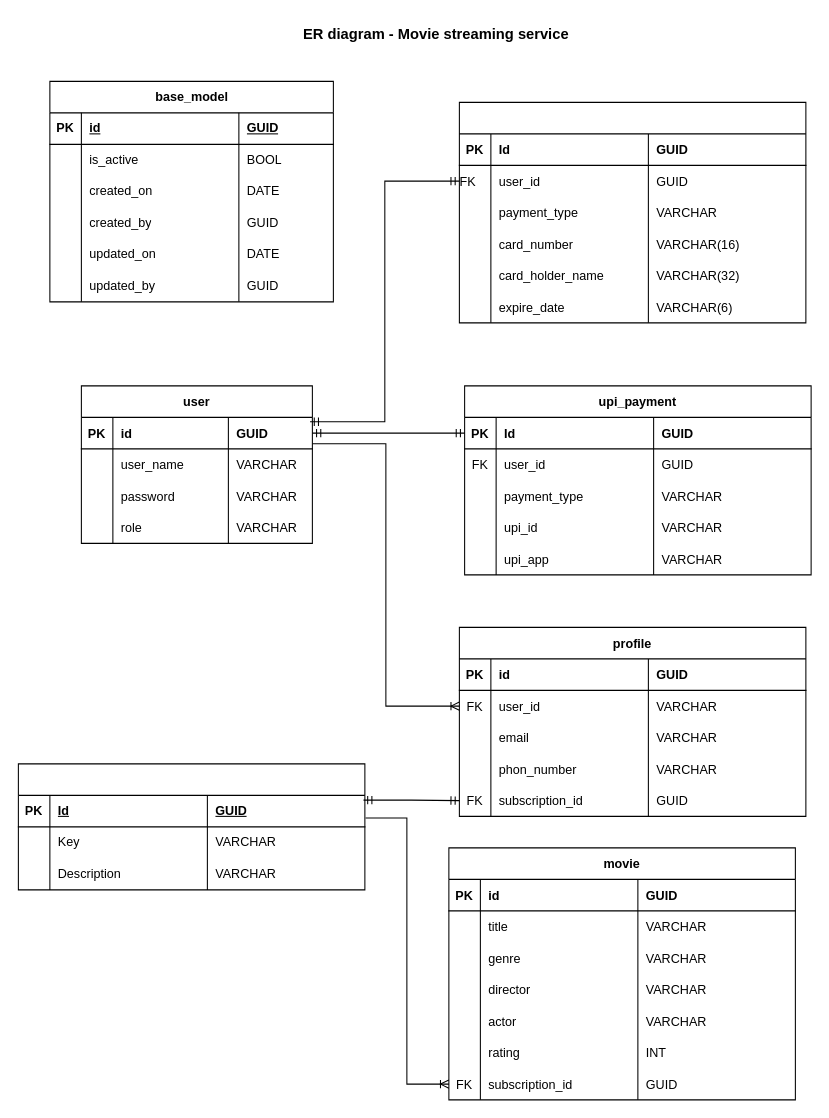
This 829x1118 diagram has some shape labels left out. Each missing label, with the box of its shape:
card_payment: (458, 101, 806, 323)
subscription: (17, 763, 365, 890)
